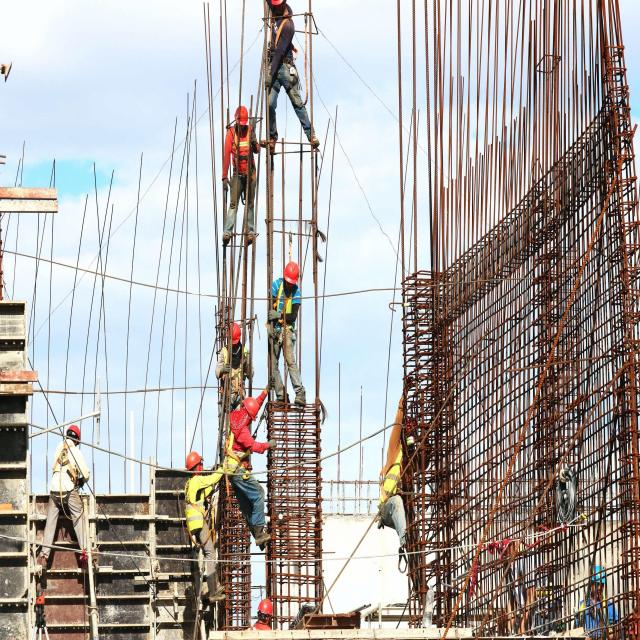Reflective-Jacket: (223, 410, 256, 479), (50, 440, 85, 490), (268, 282, 301, 332), (183, 474, 210, 532), (233, 126, 252, 174)
Safety-Helmet: (242, 393, 261, 419), (184, 449, 204, 471), (283, 259, 301, 283), (234, 104, 251, 126), (256, 597, 274, 615), (66, 422, 84, 440), (228, 321, 242, 344)
